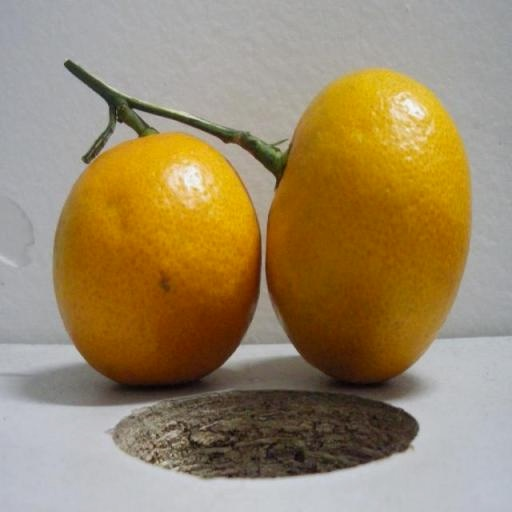fruit: (266, 69, 470, 382), (53, 134, 259, 384)
